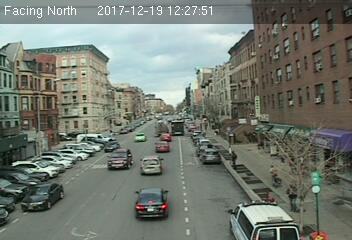car: (21, 183, 65, 211), (134, 187, 170, 217), (107, 149, 134, 170), (139, 155, 165, 175), (203, 149, 221, 165), (104, 142, 121, 153), (154, 141, 169, 152), (134, 132, 146, 143)
police: (226, 198, 300, 240)
ups: (169, 120, 185, 136)
